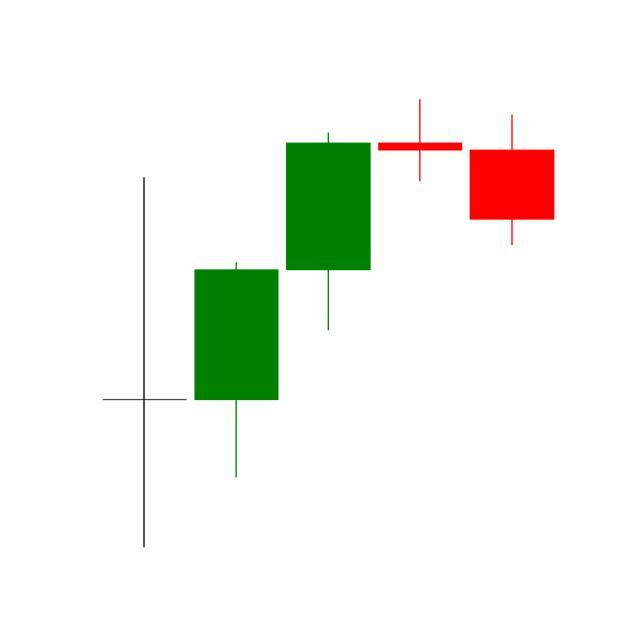Spinning Top: (374, 99, 468, 183)
